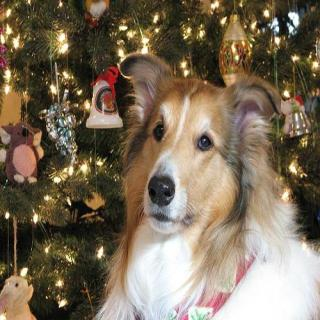dog: (114, 52, 286, 238)
nose: (145, 173, 176, 208)
